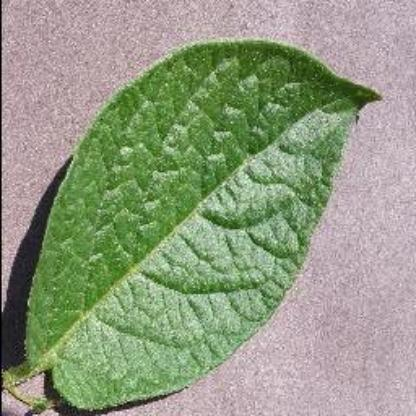Healthy-plant: (18, 34, 366, 416)
